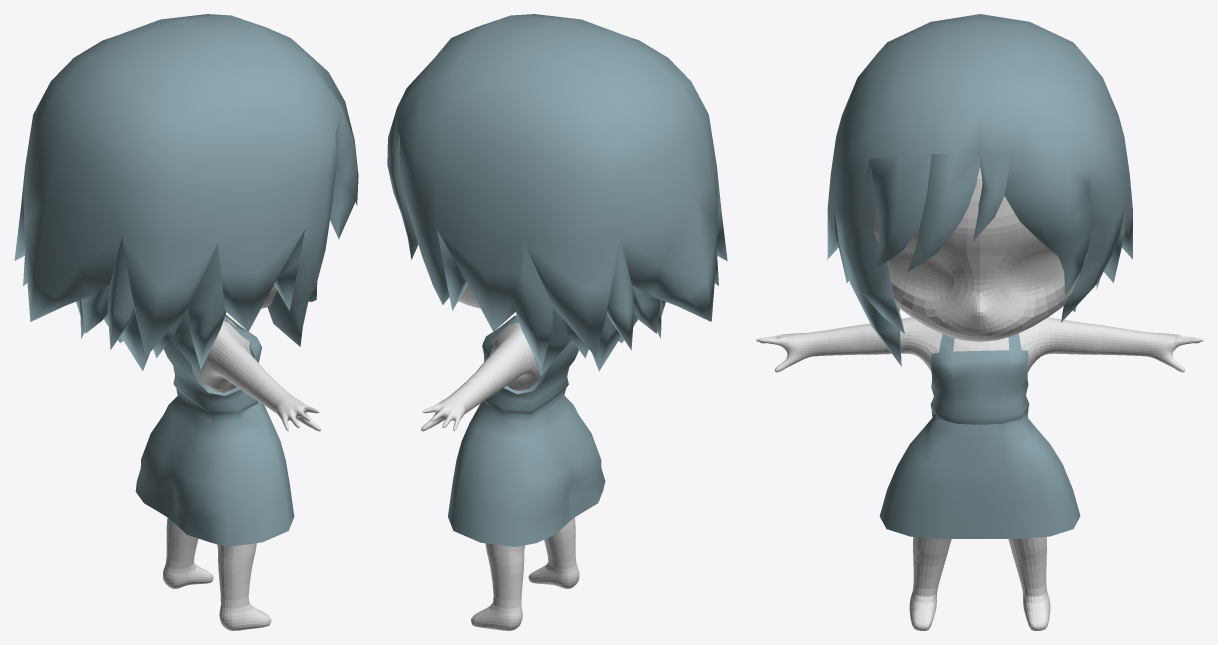
The picture shows the model from 3 angles, left to right: view 1: azimuth 30°, elevation 25°; view 2: azimuth 150°, elevation 25°; view 3: azimuth 270°, elevation 25°; orthographic projection.
Visible parts, largest first — view 1: Retopology_hp; view 2: Retopology_hp; view 3: Retopology_hp.
Boxes of the visible parts, x1,y1,x2,y2 form: Retopology_hp: [14, 14, 358, 630]; Retopology_hp: [387, 14, 727, 630]; Retopology_hp: [756, 14, 1203, 630].
Size of the model in its own units: 2737 by 4984 by 3534.
